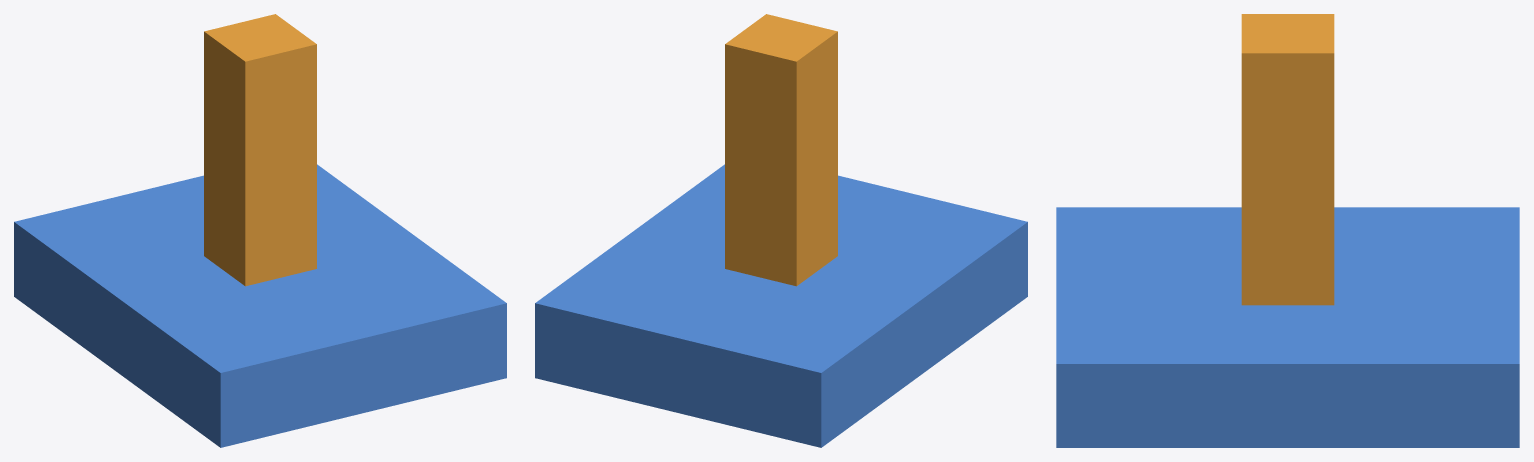
Rendered from sample-draco.glb.
3 renders of one model, left to right at view 1: azimuth 30°, elevation 25°; view 2: azimuth 150°, elevation 25°; view 3: azimuth 270°, elevation 25°, orthographic. The views are drawn at different scales.
Visible parts, largest first — view 1: Plate, Peg; view 2: Plate, Peg; view 3: Plate, Peg.
Part boxes in pixels (<box>): Plate: <box>14,164,506,447</box>; Peg: <box>204,14,316,286</box>; Plate: <box>535,164,1027,447</box>; Peg: <box>725,14,837,286</box>; Plate: <box>1056,207,1519,447</box>; Peg: <box>1241,14,1334,305</box>.
Bounding box in the file's own units: 0.04 × 0.04 × 0.05.
